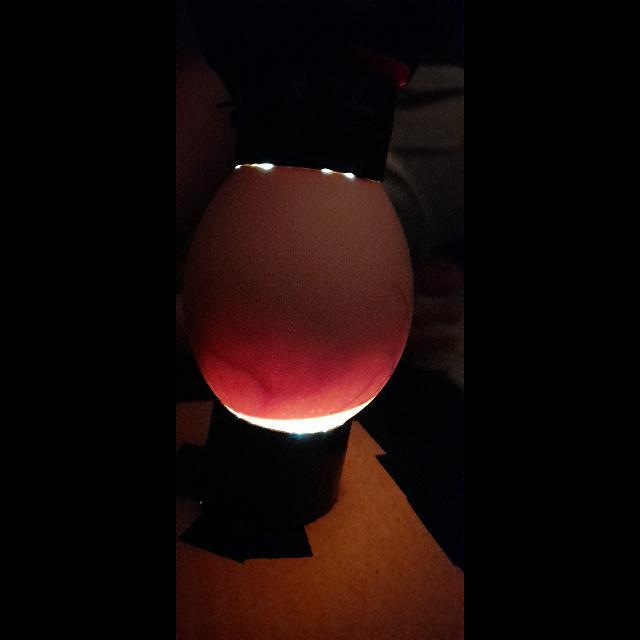Fertile: (188, 164, 416, 436)
